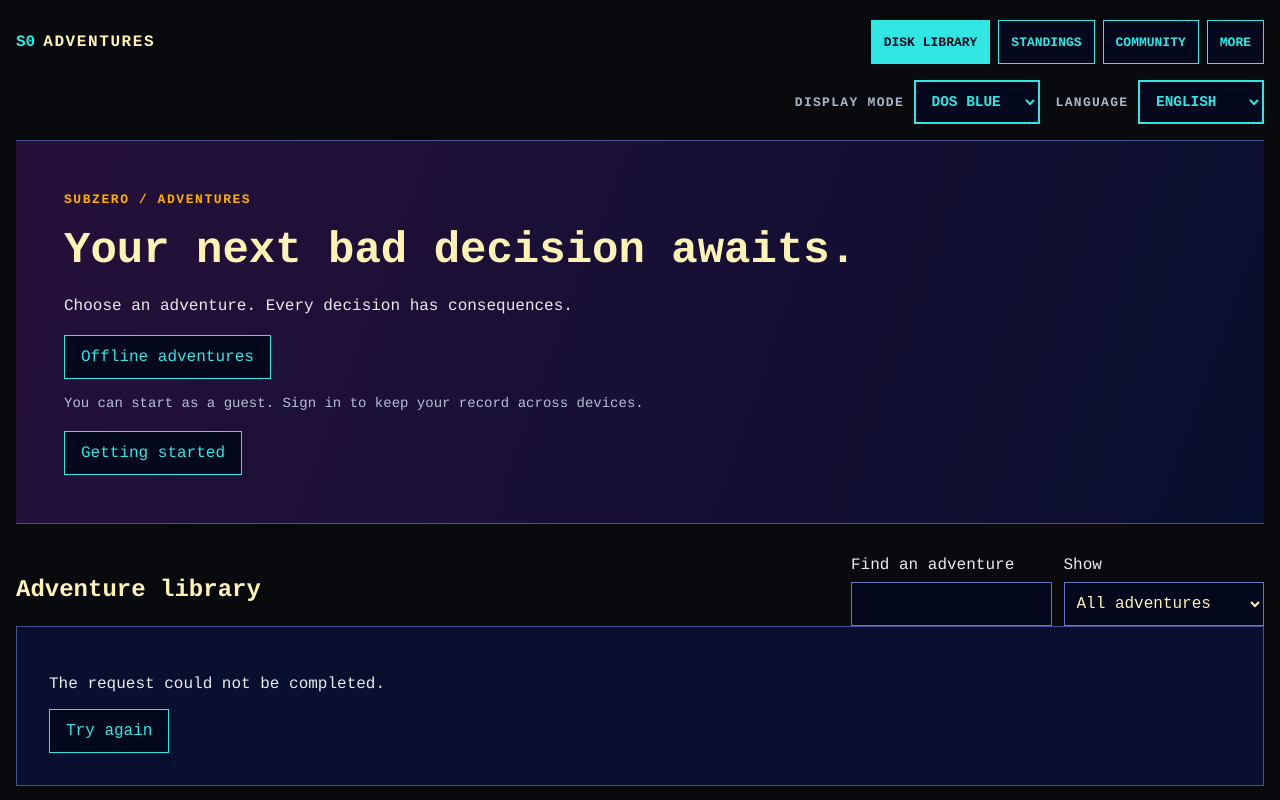
it: persistent application routing › keeps navigation available when the catalog fails
Check: the message "The request could not be completed. Try again" is shown, box [16,626,1264,786]
Click the link "Standings". click: (1046, 42)
box: [998,20,1094,64]
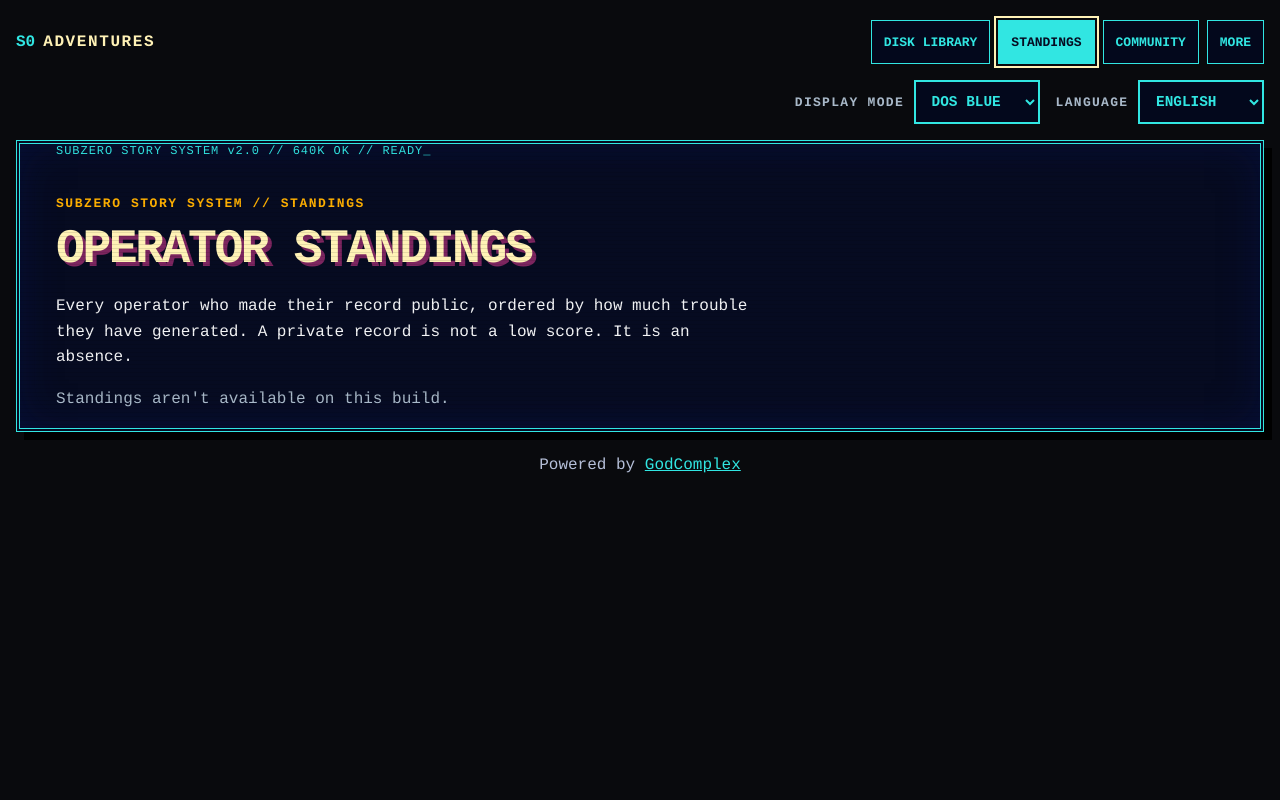
Check: the heading "Operator standings" is shown, box [56,223,531,277]
